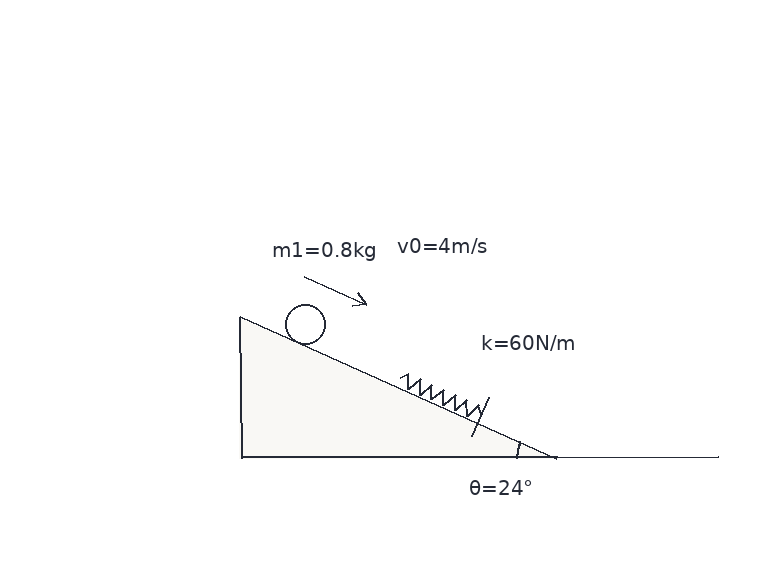ball: (283, 302, 327, 346)
ramp: (238, 315, 559, 460)
spring: (397, 372, 483, 418)
